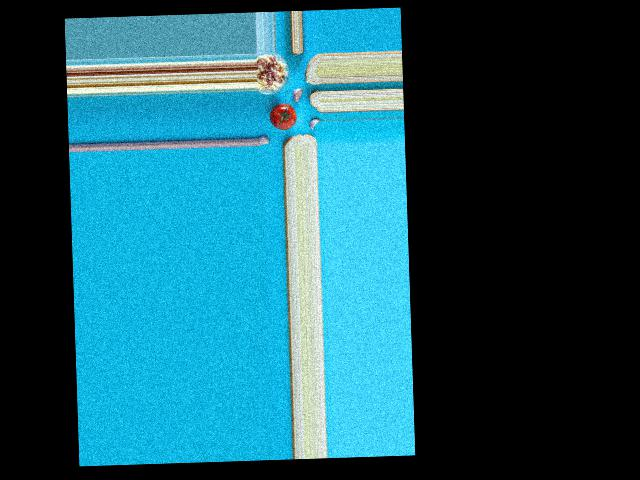tomato: (269, 104, 297, 130)
